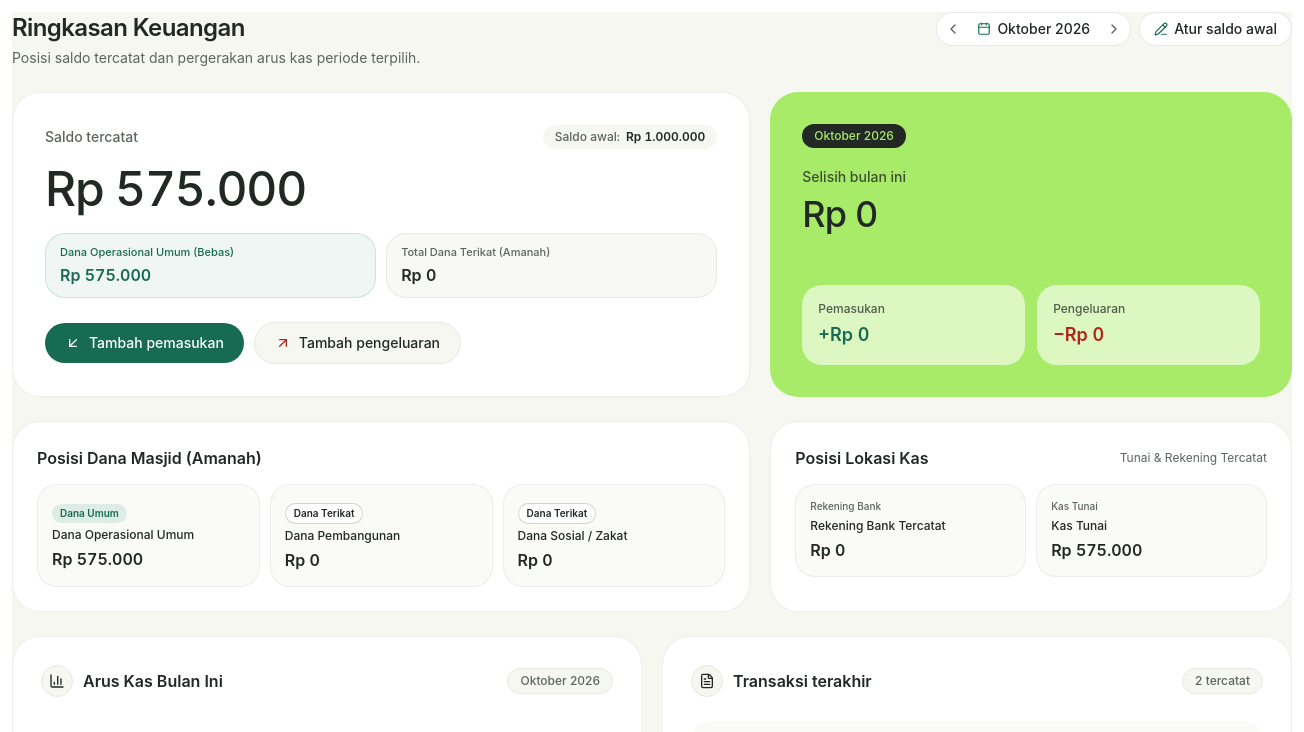
Scenario: Nota Milestone 6 — Quality, Accessibility, Reliability & Race-Condition Audit › ignores stale out-of-order responses when the user switches periods rapidly
Expected: the text with test id "current-balance-value" reads "Rp 575.000", [45,159,306,218]
Step 1. Click the button named "Bulan sebelumnya" → click(953, 29), box [939,15,967,43]
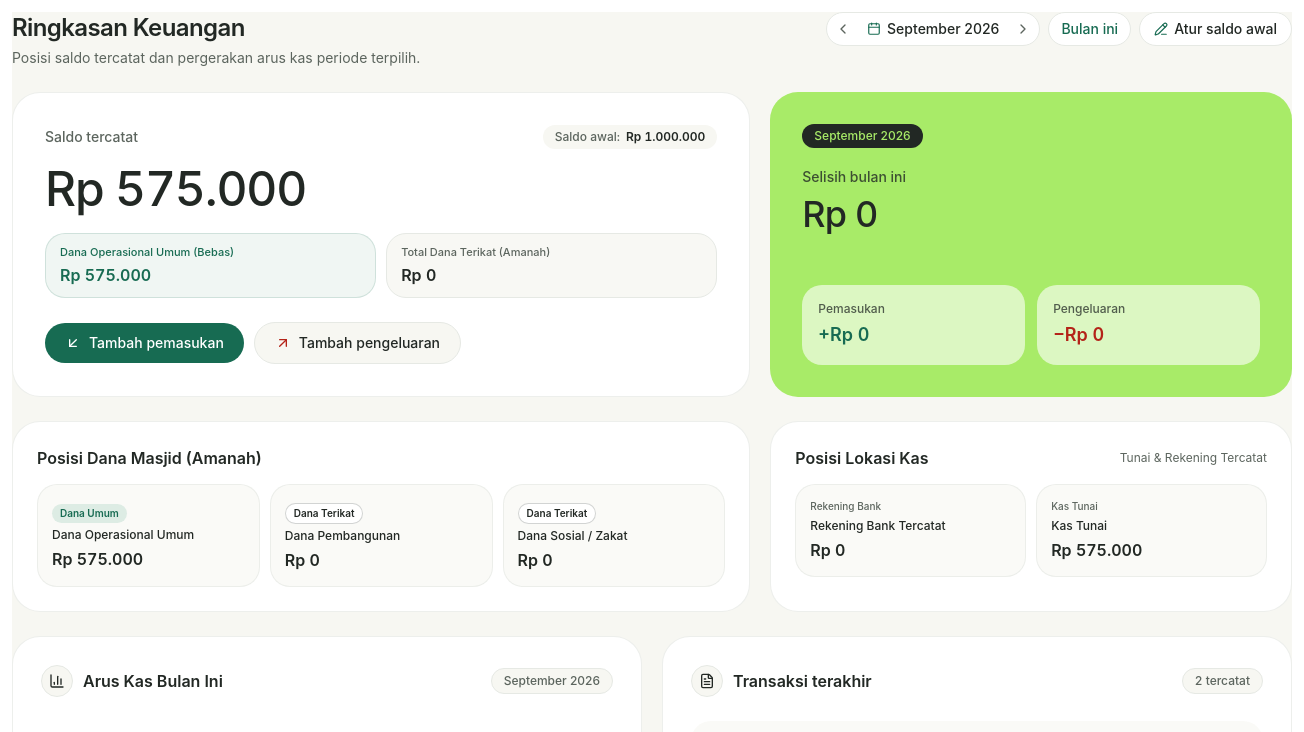
Step 2. Click the button named "Bulan sebelumnya" → click(843, 29), box [829,15,857,43]
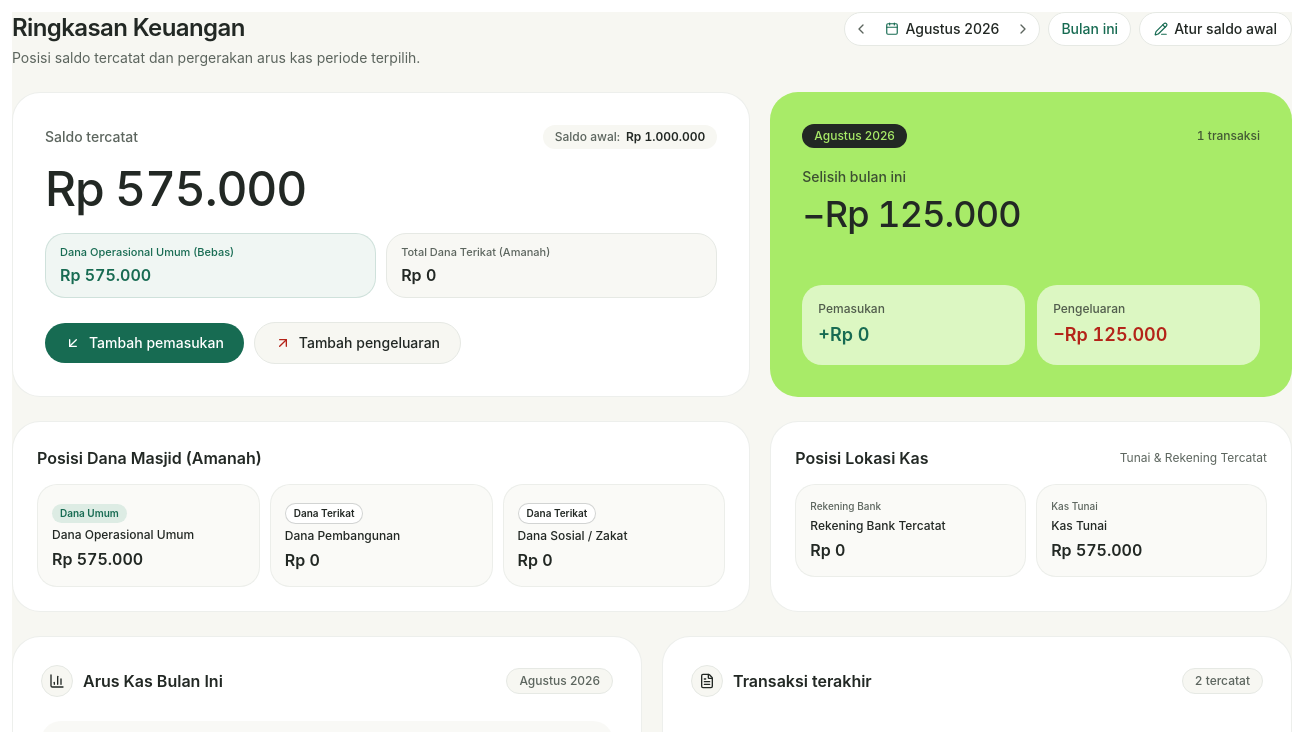
Expected: the text with test id "period-expense-value" reads "−Rp 125.000", [1053,324,1167,344]
